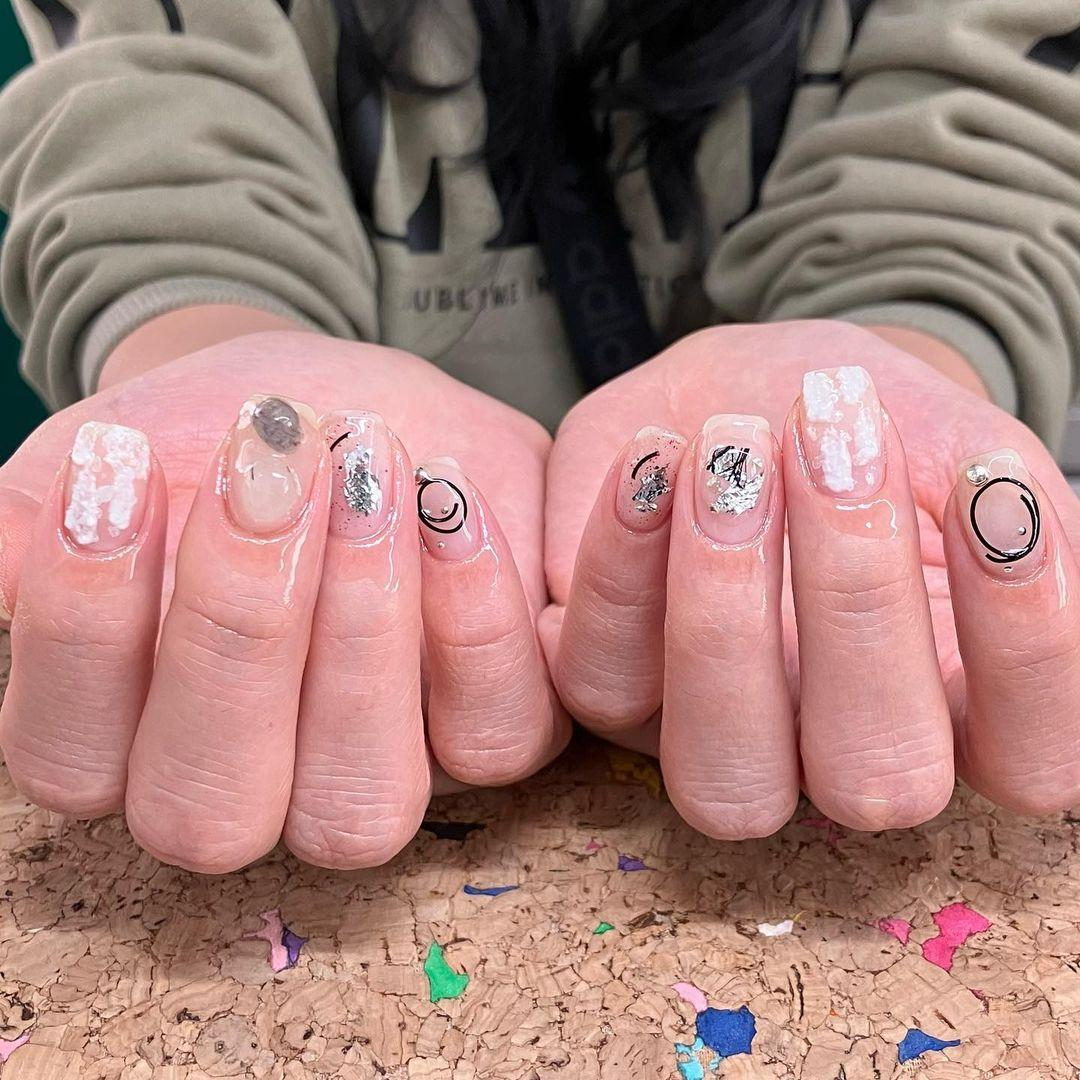nail: (122, 392, 332, 874), (780, 363, 955, 832), (281, 408, 431, 870), (0, 419, 168, 820), (657, 411, 800, 841), (412, 454, 571, 789), (940, 447, 1078, 817), (551, 423, 688, 744)
